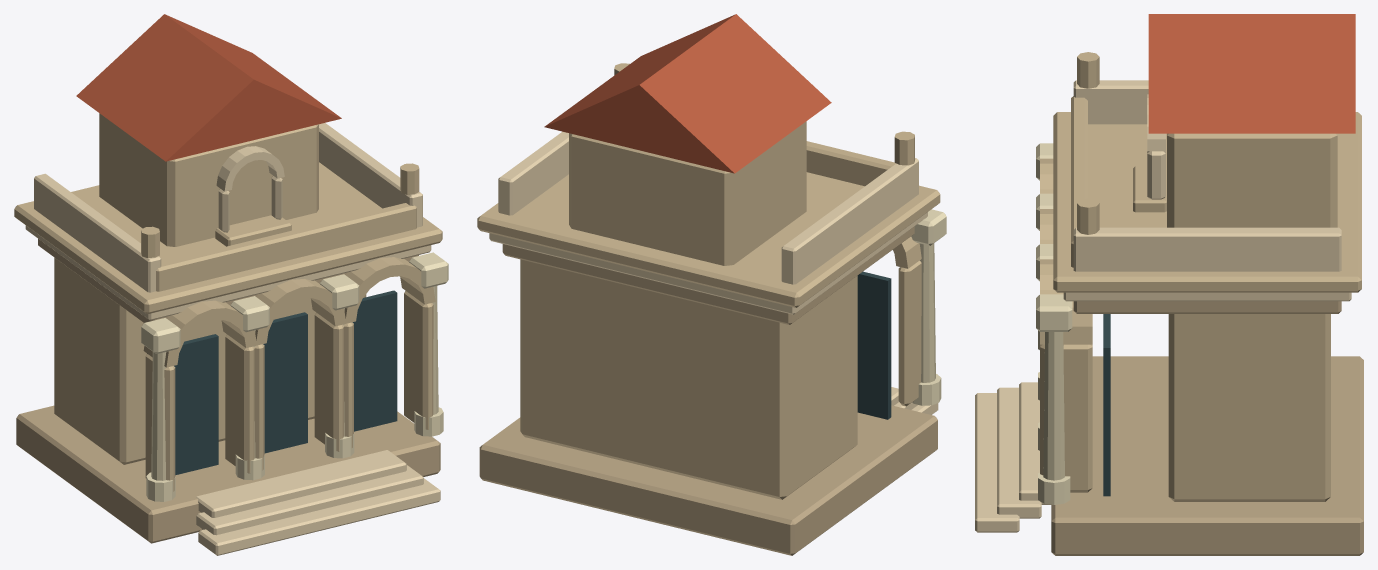
Rendered from city-loggia.glb.
3 renders of one model, left to right at view 1: azimuth 30°, elevation 25°; view 2: azimuth 150°, elevation 25°; view 3: azimuth 270°, elevation 25°, orthographic. The views are drawn at different scales.
Visible parts, largest first — view 1: Cube; view 2: Cube; view 3: Cube.
Boxes of the visible parts, x1=… form: Cube: x1=14, y1=14, x2=448, y2=555; Cube: x1=477, y1=14, x2=946, y2=555; Cube: x1=975, y1=14, x2=1363, y2=555.
Size of the model in its own units: 0.49 by 0.627 by 0.479.
